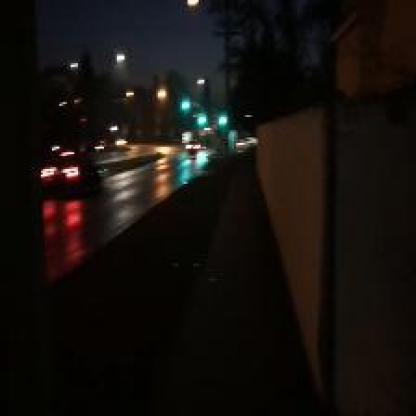other: (28, 143, 87, 268), (148, 77, 172, 206)
